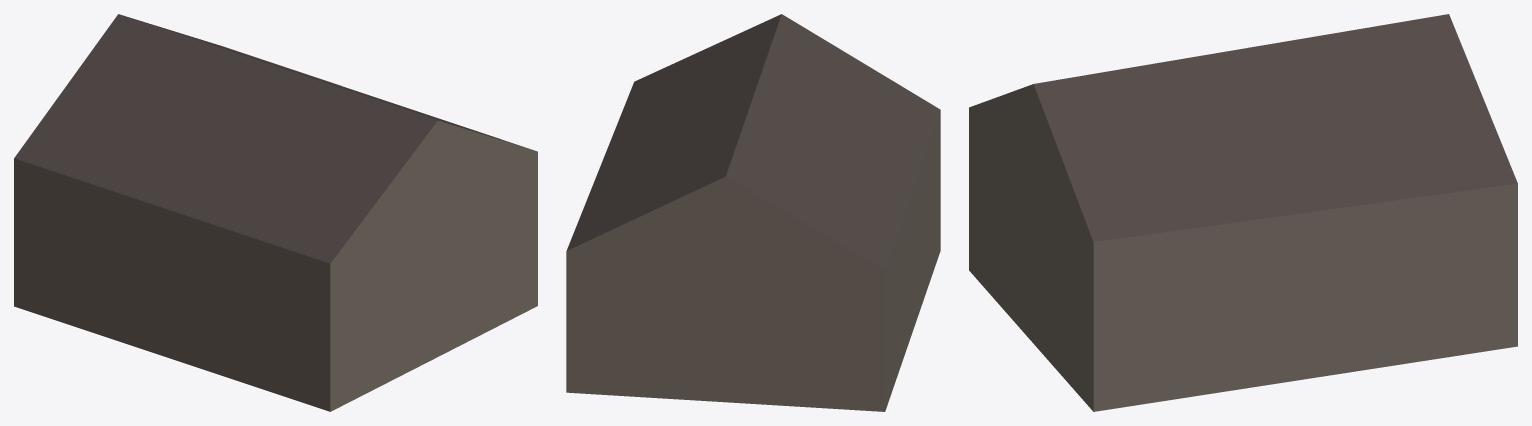
3 views of the same model, side by side, from view 1: azimuth 30°, elevation 25°; view 2: azimuth 150°, elevation 25°; view 3: azimuth 270°, elevation 25° (orthographic). The views are drawn at different scales.
Visible parts, largest first — view 1: HP-w1198842226; view 2: HP-w1198842226; view 3: HP-w1198842226.
Boxes of the visible parts, x1,y1,x2,y2 form: HP-w1198842226: (14, 14, 537, 411); HP-w1198842226: (566, 14, 940, 411); HP-w1198842226: (969, 14, 1517, 411).
Bounding box in the file's own units: 16.66 × 9.57 × 18.33.
